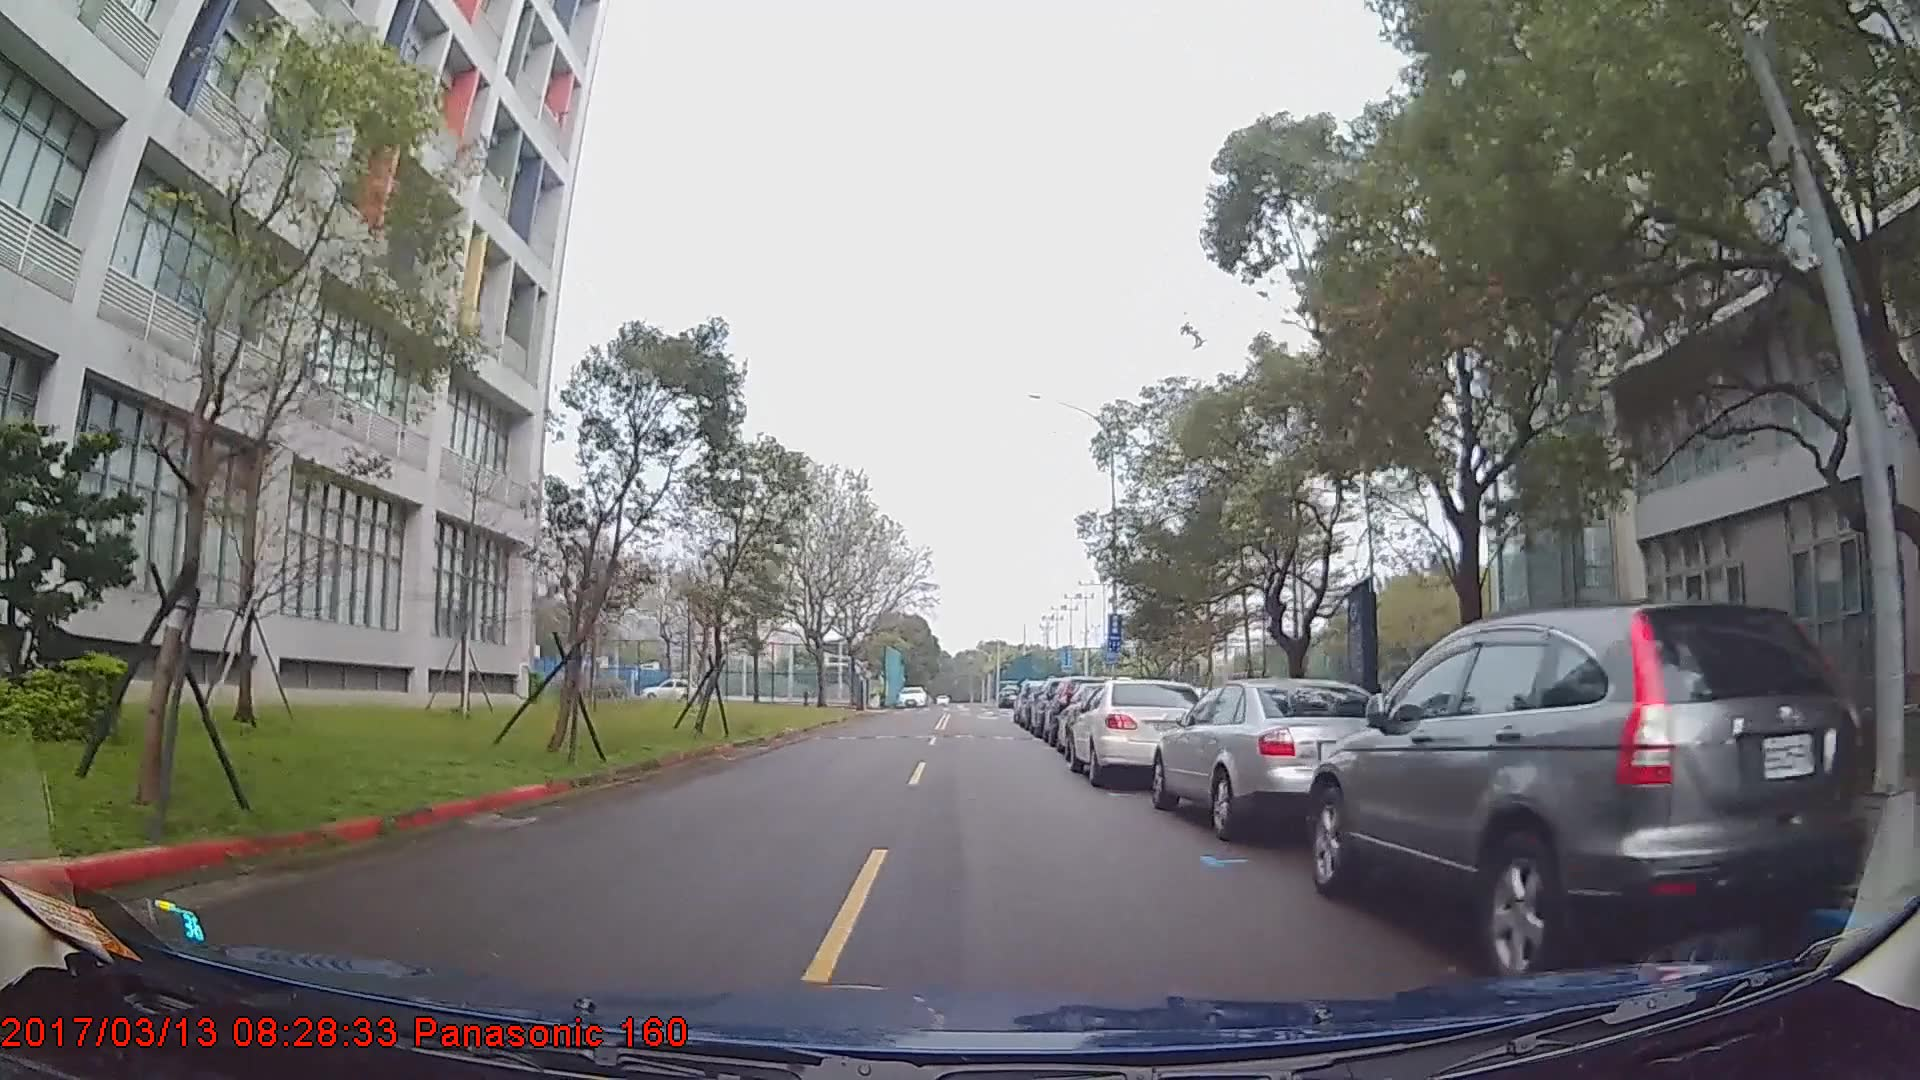vehicle: (1305, 600, 1859, 986), (1149, 678, 1400, 844), (1065, 676, 1215, 787), (641, 673, 698, 700), (894, 686, 926, 708)
